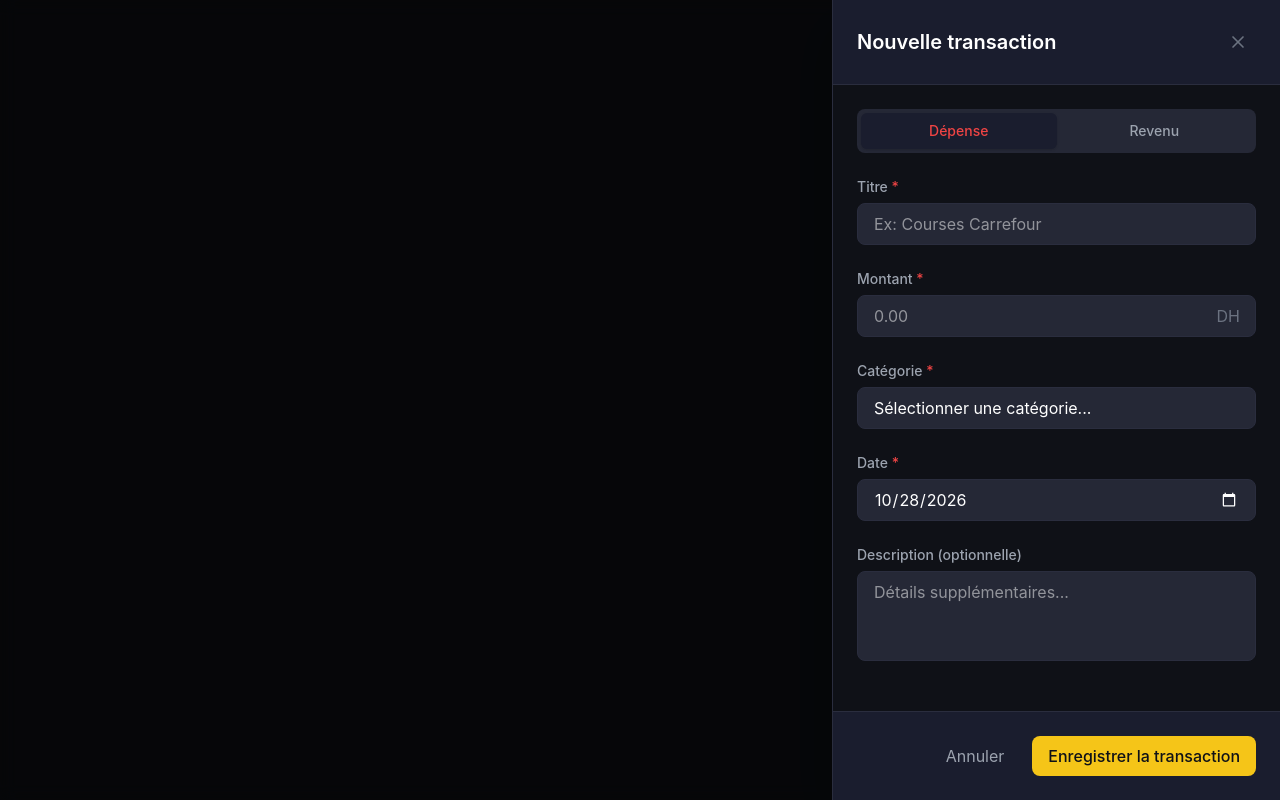
TransactionForm › TransactionForm_whenSubmittingWithMissingCategory_shouldShowError
// Fill title and amount, but leave category at default (0)
Type "Test" into the field labelled "Titre *" at (1056, 224), box [857,203,1256,245]
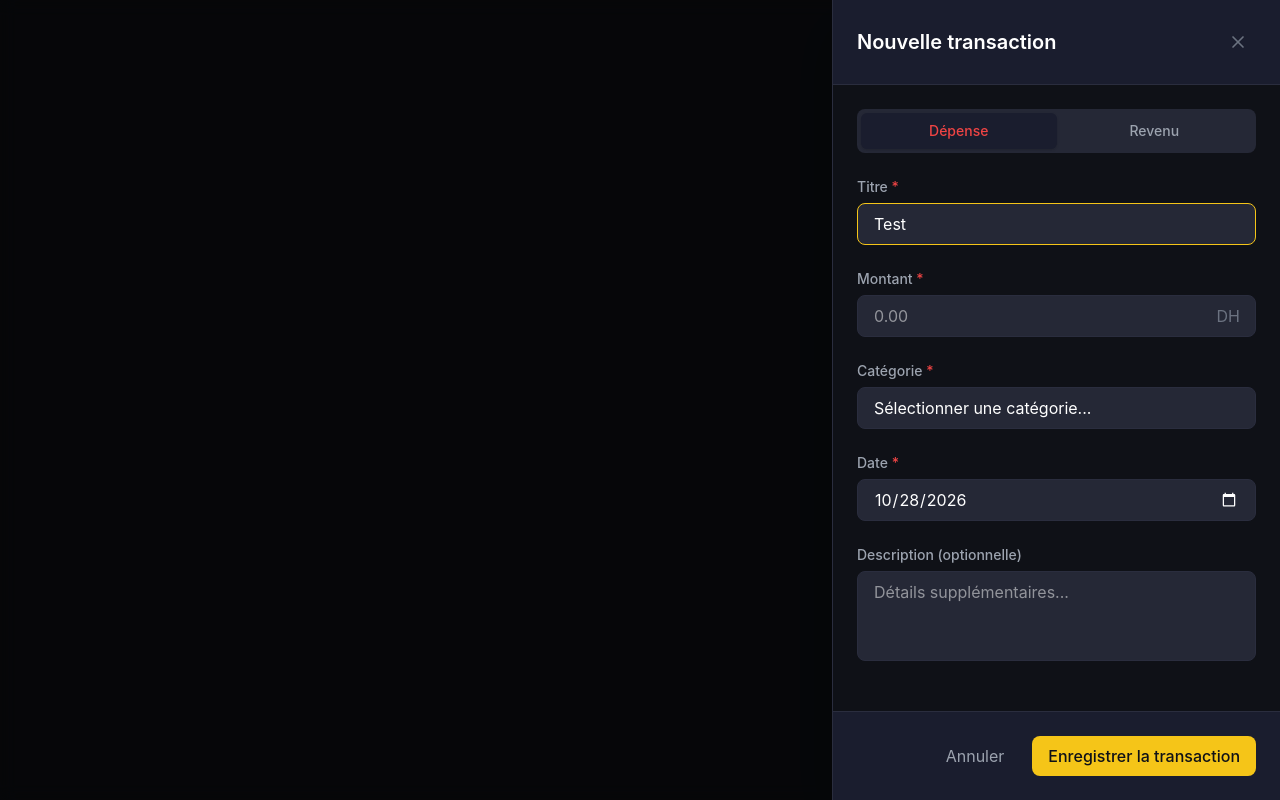
Type "100" into the field labelled "Montant *" at (1056, 316), box [857,295,1256,337]
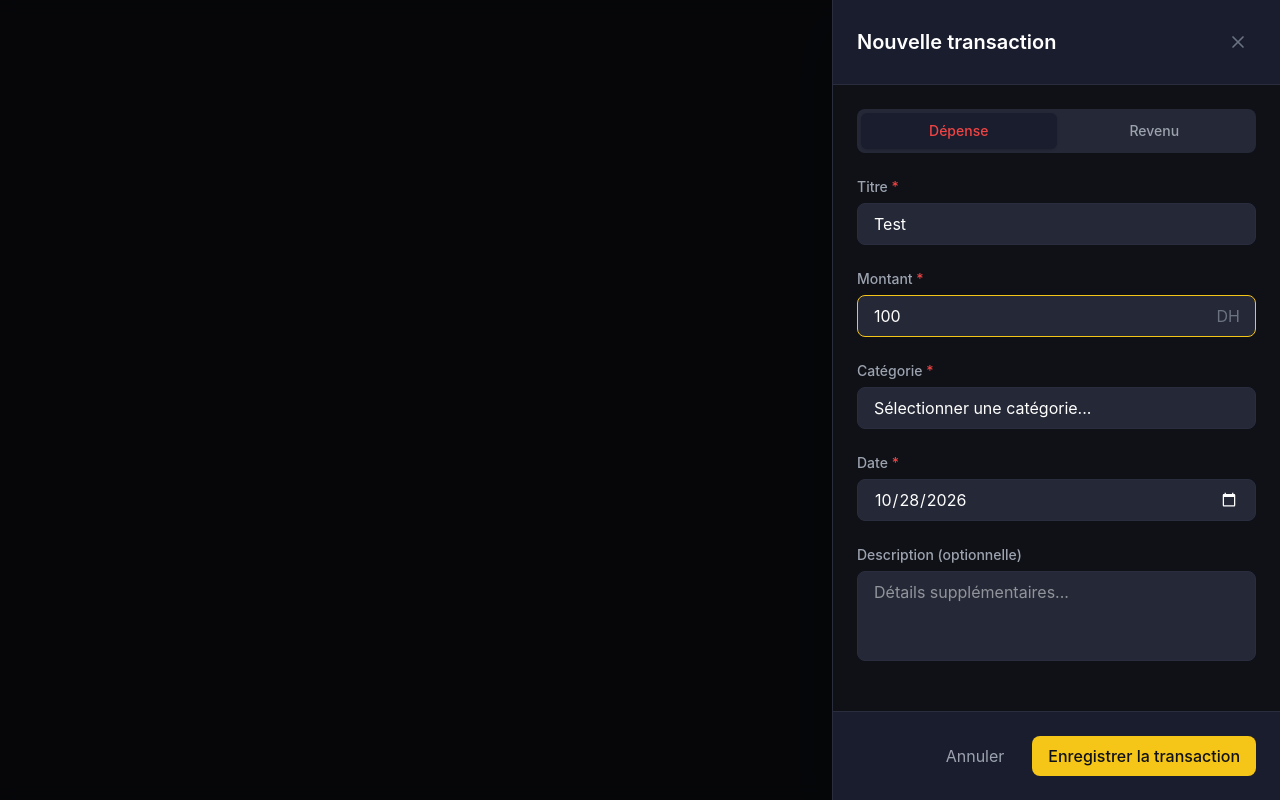
Click the button "Enregistrer la transaction" at (1144, 756), box [1032,736,1256,776]
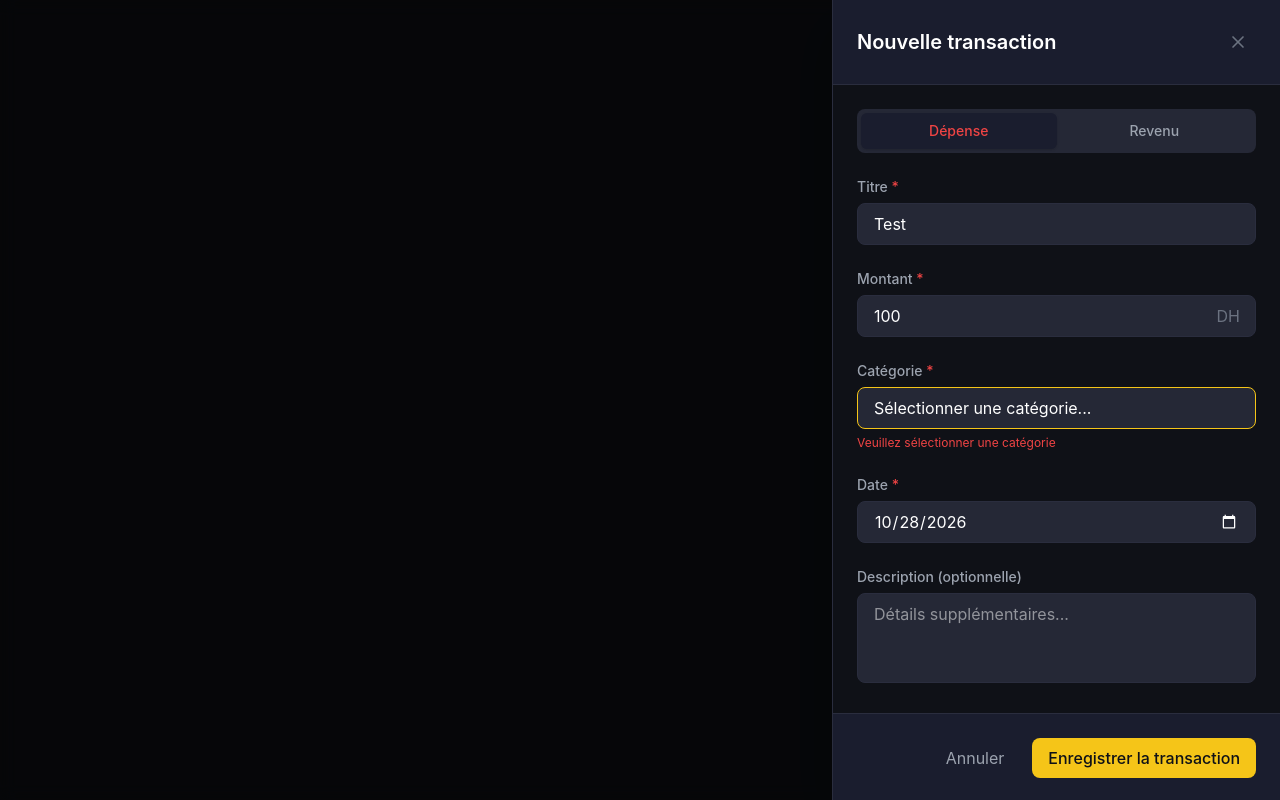
Check: the text "Veuillez sélectionner une catégorie" is shown, box [857,435,1056,450]
